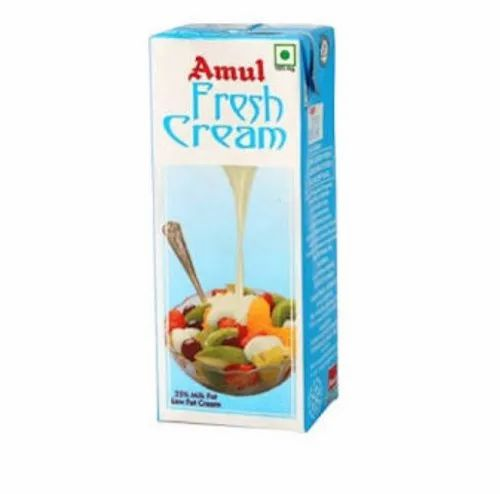Amul: (185, 53, 266, 83)
